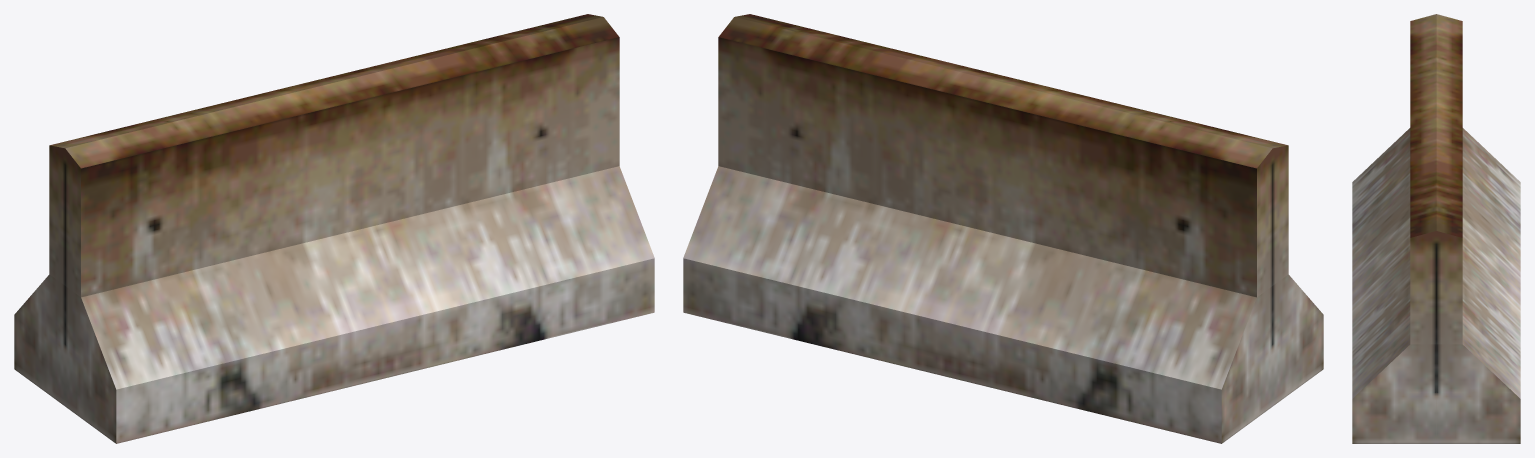
The model's file is Jersey_barrier_dirty.fbx.
3 renders of one model, left to right at view 1: azimuth 30°, elevation 25°; view 2: azimuth 150°, elevation 25°; view 3: azimuth 270°, elevation 25°, orthographic. The views are drawn at different scales.
Parts seen in each view (by area): view 1: Jersey_barrier_dirty; view 2: Jersey_barrier_dirty; view 3: Jersey_barrier_dirty.
Boxes of the visible parts, <box> form: Jersey_barrier_dirty: <box>14,14,654,443</box>; Jersey_barrier_dirty: <box>683,14,1323,443</box>; Jersey_barrier_dirty: <box>1352,14,1520,443</box>.
Size of the model in its own units: 248 by 114 by 81.44.
1 material, 1 textured.
